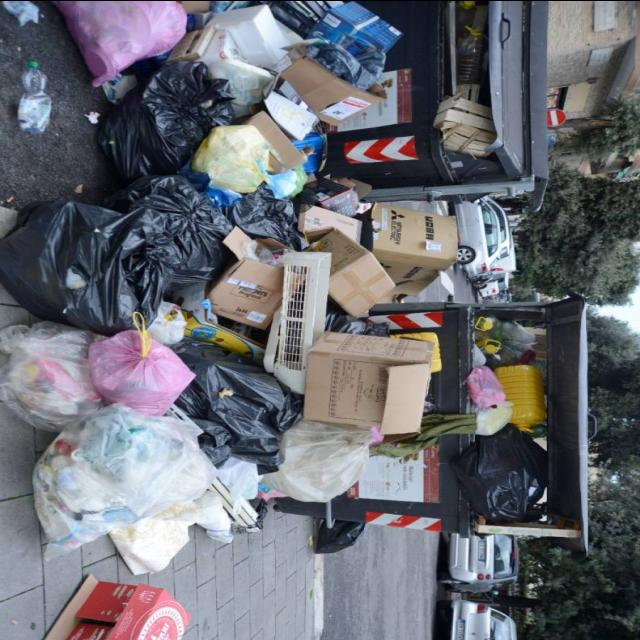garbage: (0, 0, 598, 576)
